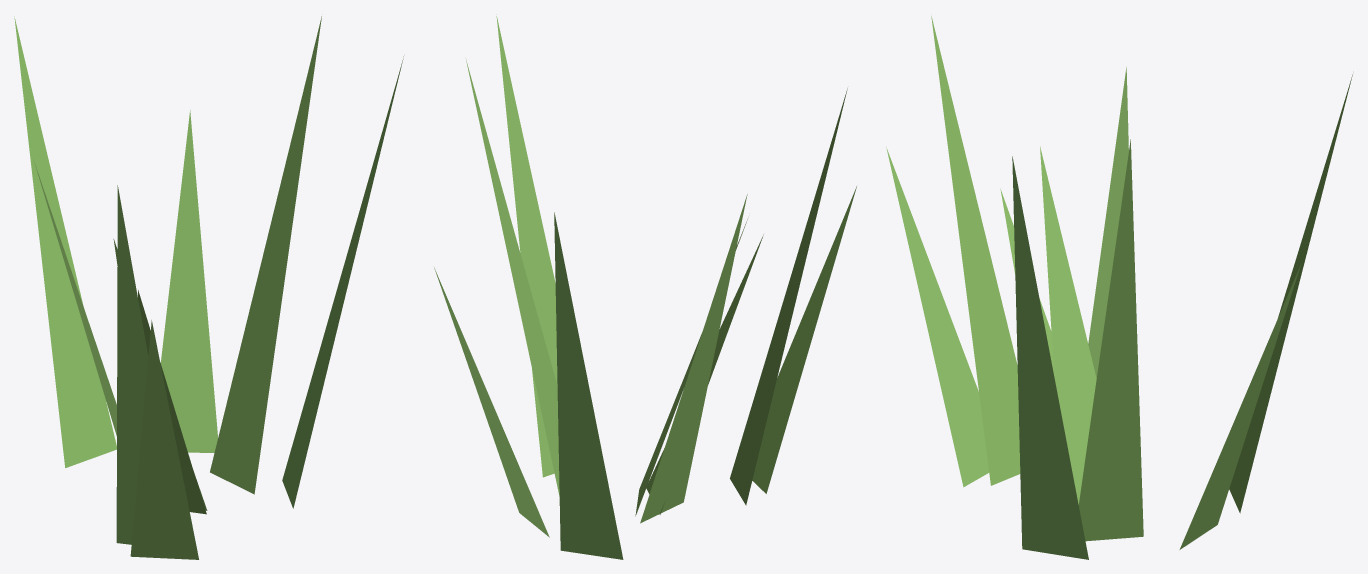
Rendered from GrassTuft.fbx.
3 views of the same model, side by side, from view 1: azimuth 30°, elevation 25°; view 2: azimuth 150°, elevation 25°; view 3: azimuth 270°, elevation 25° (orthographic). The views are drawn at different scales.
Parts seen in each view (by area): view 1: GrassTuft; view 2: GrassTuft; view 3: GrassTuft.
Boxes of the visible parts, box(x1,y1,x2,y2) form: GrassTuft: box(14, 16, 403, 559); GrassTuft: box(434, 14, 856, 559); GrassTuft: box(886, 16, 1352, 559).
Size of the model in its own units: 0.3817 by 0.4887 by 0.4585.
